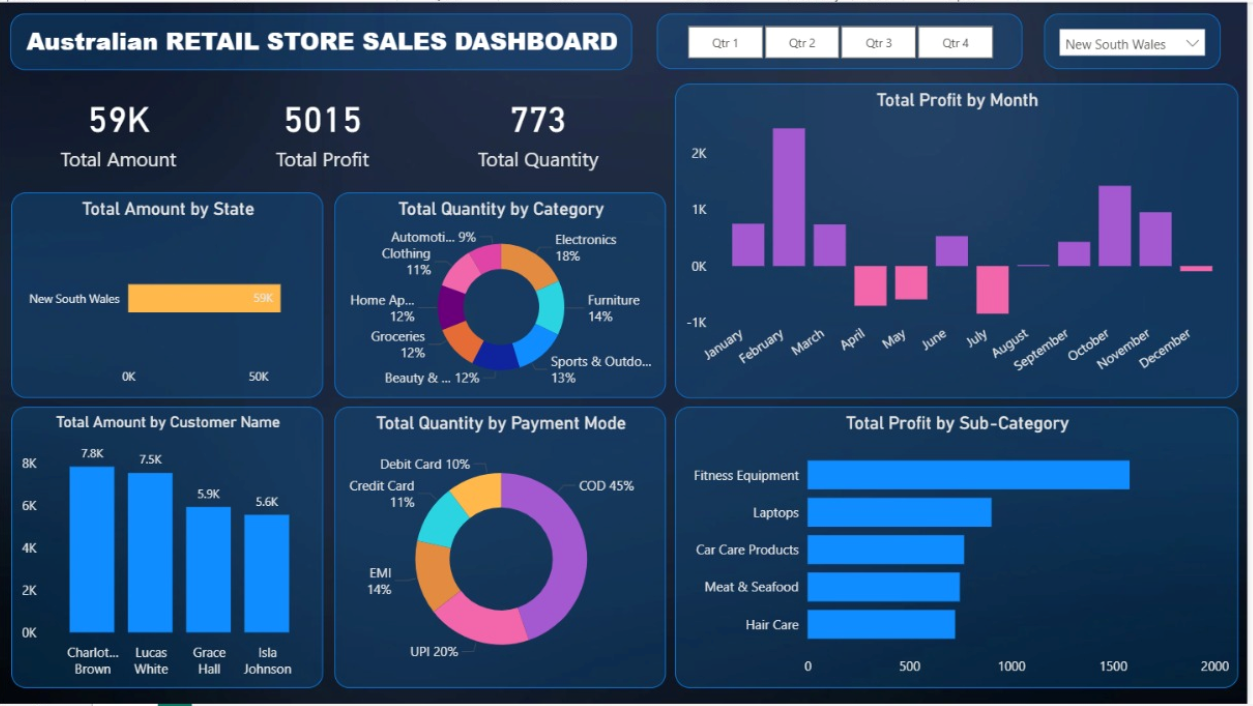

The dashboard page shown, as its layout file describes it:
{"tool":"powerbi","page":{"name":"Page 1","canvas":[1280,720],"ordinal":0},"visuals":[{"type":"textbox","box":[11.9,11.9,637.9,58.3],"z":0},{"type":"card","fields":{"Values":["Details.Amount"]},"box":[12.5,83.8,220,95],"z":1000},{"type":"card","fields":{"Values":["Details.Profit"]},"box":[232.5,83.8,198.8,95],"z":2000},{"type":"card","fields":{"Values":["Details.Quantity"]},"box":[431.2,83.8,243.8,95],"z":3000},{"type":"clusteredColumnChart","title":"Total Profit by Month","fields":{"Category":["Orders.Order Date.Variation.Date Hierarchy.Month"],"Y":["Details.Profit"]},"box":[693.8,83.8,577.5,322.5],"z":4000},{"type":"barChart","title":"Total Profit by Sub-Category","fields":{"Category":["Details.Sub-Category"],"Y":["Details.Profit"]},"box":[693.8,415,577.5,288.8],"z":5000},{"type":"donutChart","title":"Total Quantity by Category","fields":{"Category":["Details.Category"],"Y":["Details.Quantity"]},"box":[343.8,195,340,211.2],"z":6000},{"type":"donutChart","title":"Total Quantity by Payment Mode","fields":{"Y":["Details.Quantity"],"Category":["Details.PaymentMode"]},"box":[343.8,415,340,288.8],"z":7000},{"type":"clusteredColumnChart","title":"Total Amount by Customer Name","fields":{"Category":["Orders.CustomerName"],"Y":["Details.Amount"]},"box":[12.5,415,320,288.8],"z":8000},{"type":"barChart","title":"Total Amount by State","fields":{"Category":["Orders.State"],"Y":["Details.Amount"]},"box":[12.5,195,320,211.2],"z":9000},{"type":"slicer","fields":{"Values":["Orders.Order Date.Variation.Date Hierarchy.Quarter"]},"box":[674.8,11.9,374.9,57.1],"z":10000},{"type":"slicer","fields":{"Values":["Orders.State"]},"box":[1072.3,11.9,180.9,57.1],"z":11000}]}

Visuals, with their boxes in screenshot pixels (x1, y1, x2, y2), scaled from the page's 1280x720 canvas onto the 1253x706 screenshot:
textbox: {"left": 12, "top": 12, "right": 636, "bottom": 69}
card - Details.Amount: {"left": 12, "top": 82, "right": 228, "bottom": 175}
card - Details.Profit: {"left": 228, "top": 82, "right": 422, "bottom": 175}
card - Details.Quantity: {"left": 422, "top": 82, "right": 661, "bottom": 175}
"Total Profit by Month" clusteredColumnChart: {"left": 679, "top": 82, "right": 1244, "bottom": 398}
"Total Profit by Sub-Category" barChart: {"left": 679, "top": 407, "right": 1244, "bottom": 690}
"Total Quantity by Category" donutChart: {"left": 337, "top": 191, "right": 669, "bottom": 398}
"Total Quantity by Payment Mode" donutChart: {"left": 337, "top": 407, "right": 669, "bottom": 690}
"Total Amount by Customer Name" clusteredColumnChart: {"left": 12, "top": 407, "right": 325, "bottom": 690}
"Total Amount by State" barChart: {"left": 12, "top": 191, "right": 325, "bottom": 398}
slicer - Orders.Order Date.Variation.Date Hierarchy.Quarter: {"left": 661, "top": 12, "right": 1028, "bottom": 68}
slicer - Orders.State: {"left": 1050, "top": 12, "right": 1227, "bottom": 68}
